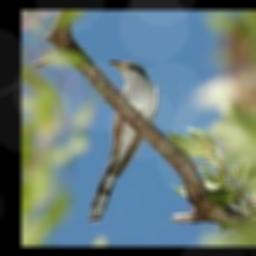Cuckoo: (89, 59, 159, 224)
